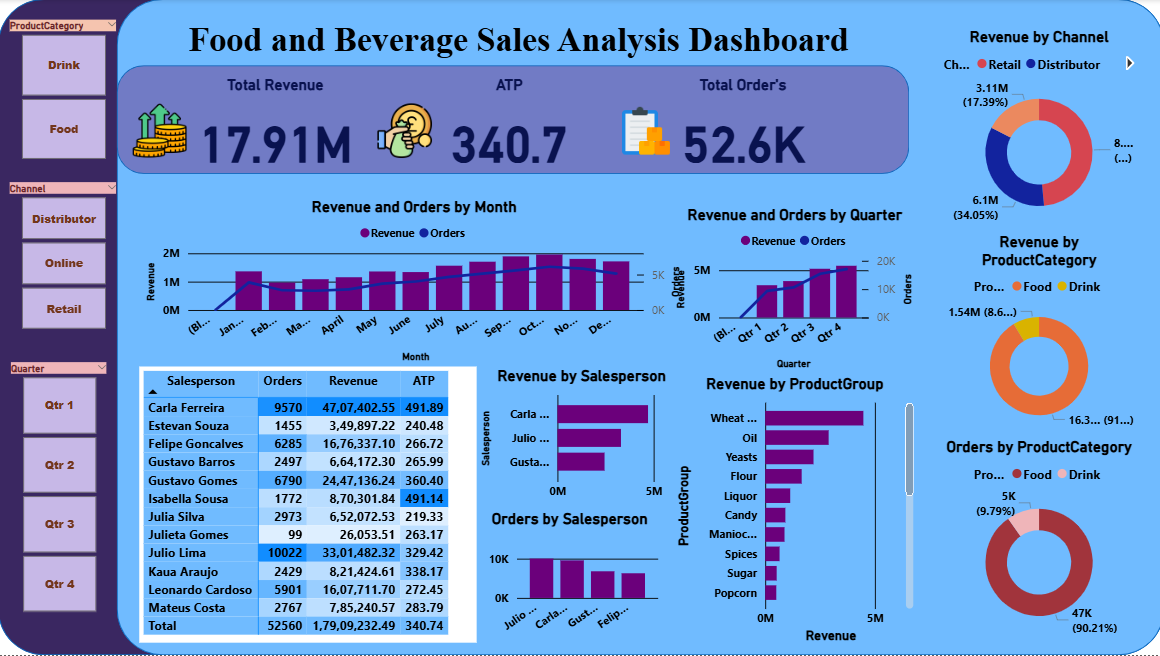

Layout of this report page (visuals, bound fields, positions):
{"tool":"powerbi","page":{"name":"Page 2","canvas":[1280,720],"ordinal":1},"visuals":[{"type":"shape","box":[0,0,1280.3,720.4],"z":0},{"type":"shape","box":[130.4,0,1149.9,720.4],"z":1000},{"type":"shape","box":[130.4,72.7,870,119.4],"z":2000},{"type":"card","title":"Total Revenue","fields":{"Values":["Product.Revenue"]},"box":[155.1,83.7,299.1,119.4],"z":3000},{"type":"card","title":"ATP","fields":{"Values":["Product.ATP"]},"box":[411.7,83.7,299.1,119.4],"z":4000},{"type":"card","title":"Total Order''s","fields":{"Values":["Product.Orders"]},"box":[668.3,83.7,299.1,119.4],"z":5000},{"type":"donutChart","fields":{"Y":["Product.Revenue"],"Category":["Sheet1.Channel"]},"box":[1033.3,31.6,219.6,225],"z":6000},{"type":"donutChart","fields":{"Y":["Product.Revenue"],"Category":["Product.ProductCategory"]},"box":[1033.3,256.6,219.6,225],"z":7000},{"type":"donutChart","fields":{"Category":["Product.ProductCategory"],"Y":["Product.Orders"]},"box":[1033.3,481.6,219.6,225],"z":8000},{"type":"lineStackedColumnComboChart","fields":{"Y":["Product.Revenue"],"Y2":["Product.Orders"],"Category":["Sheet1.OrderDate.Variation.Date Hierarchy.Quarter"]},"box":[739.6,226.4,270.3,185.2],"z":9000},{"type":"barChart","fields":{"Y":["Product.Revenue"],"Category":["Product.ProductGroup"]},"box":[739.6,411.7,270.3,300.5],"z":10000},{"type":"lineStackedColumnComboChart","fields":{"Y":["Product.Revenue"],"Y2":["Product.Orders"],"Category":["Sheet1.OrderDate.Variation.Date Hierarchy.Month"]},"box":[157.8,218.2,598.3,185.2],"z":11000},{"type":"barChart","fields":{"Y":["Product.Revenue"],"Category":["Sheet1.Salesperson"]},"box":[525.6,403.4,230.5,155.1],"z":12000},{"type":"clusteredColumnChart","fields":{"Y":["Product.Orders"],"Category":["Sheet1.Salesperson"]},"box":[525.6,559.9,204.5,146.8],"z":13000},{"type":"pivotTable","fields":{"Rows":["Sheet1.Salesperson"],"Values":["Product.Orders","Product.Revenue","Product.ATP"]},"box":[155.1,403.4,370.5,303.3],"z":14000},{"type":"slicer","fields":{"Values":["Product.ProductCategory"]},"box":[0,17.8,142.7,164.7],"z":15000},{"type":"slicer","fields":{"Values":["Sheet1.Channel"]},"box":[0,196.2,142.7,172.9],"z":16000},{"type":"slicer","fields":{"Values":["Sheet1.OrderDate.Variation.Date Hierarchy.Quarter"]},"box":[1.4,393.8,130.4,285.4],"z":17000},{"type":"textbox","box":[142.7,17.8,857.6,54.9],"z":18000},{"type":"image","box":[142.7,109.8,70,70],"z":19000},{"type":"image","box":[676.5,109.8,70,70],"z":20000},{"type":"image","box":[411.7,109.8,70,70],"z":21000}]}

Visuals, with their boxes in screenshot pixels (x1, y1, x2, y2), scaled from the page's 1280x720 canvas onto the 1160x656 screenshot:
shape: locate(0, 0, 1159, 655)
shape: locate(118, 0, 1159, 655)
shape: locate(118, 66, 907, 175)
"Total Revenue" card: locate(141, 76, 412, 185)
"ATP" card: locate(373, 76, 644, 185)
"Total Order''s" card: locate(606, 76, 877, 185)
donutChart - Product.Revenue x Sheet1.Channel: locate(936, 29, 1135, 234)
donutChart - Product.Revenue x Product.ProductCategory: locate(936, 234, 1135, 439)
donutChart - Product.ProductCategory x Product.Orders: locate(936, 439, 1135, 644)
lineStackedColumnComboChart - Product.Revenue x Product.Orders: locate(670, 206, 915, 375)
barChart - Product.Revenue x Product.ProductGroup: locate(670, 375, 915, 649)
lineStackedColumnComboChart - Product.Revenue x Product.Orders: locate(143, 199, 685, 368)
barChart - Product.Revenue x Sheet1.Salesperson: locate(476, 368, 685, 509)
clusteredColumnChart - Product.Orders x Sheet1.Salesperson: locate(476, 510, 662, 644)
pivotTable - Sheet1.Salesperson x Product.Orders: locate(141, 368, 476, 644)
slicer - Product.ProductCategory: locate(0, 16, 129, 166)
slicer - Sheet1.Channel: locate(0, 179, 129, 336)
slicer - Sheet1.OrderDate.Variation.Date Hierarchy.Quarter: locate(1, 359, 119, 619)
textbox: locate(129, 16, 907, 66)
image: locate(129, 100, 193, 164)
image: locate(613, 100, 677, 164)
image: locate(373, 100, 437, 164)
